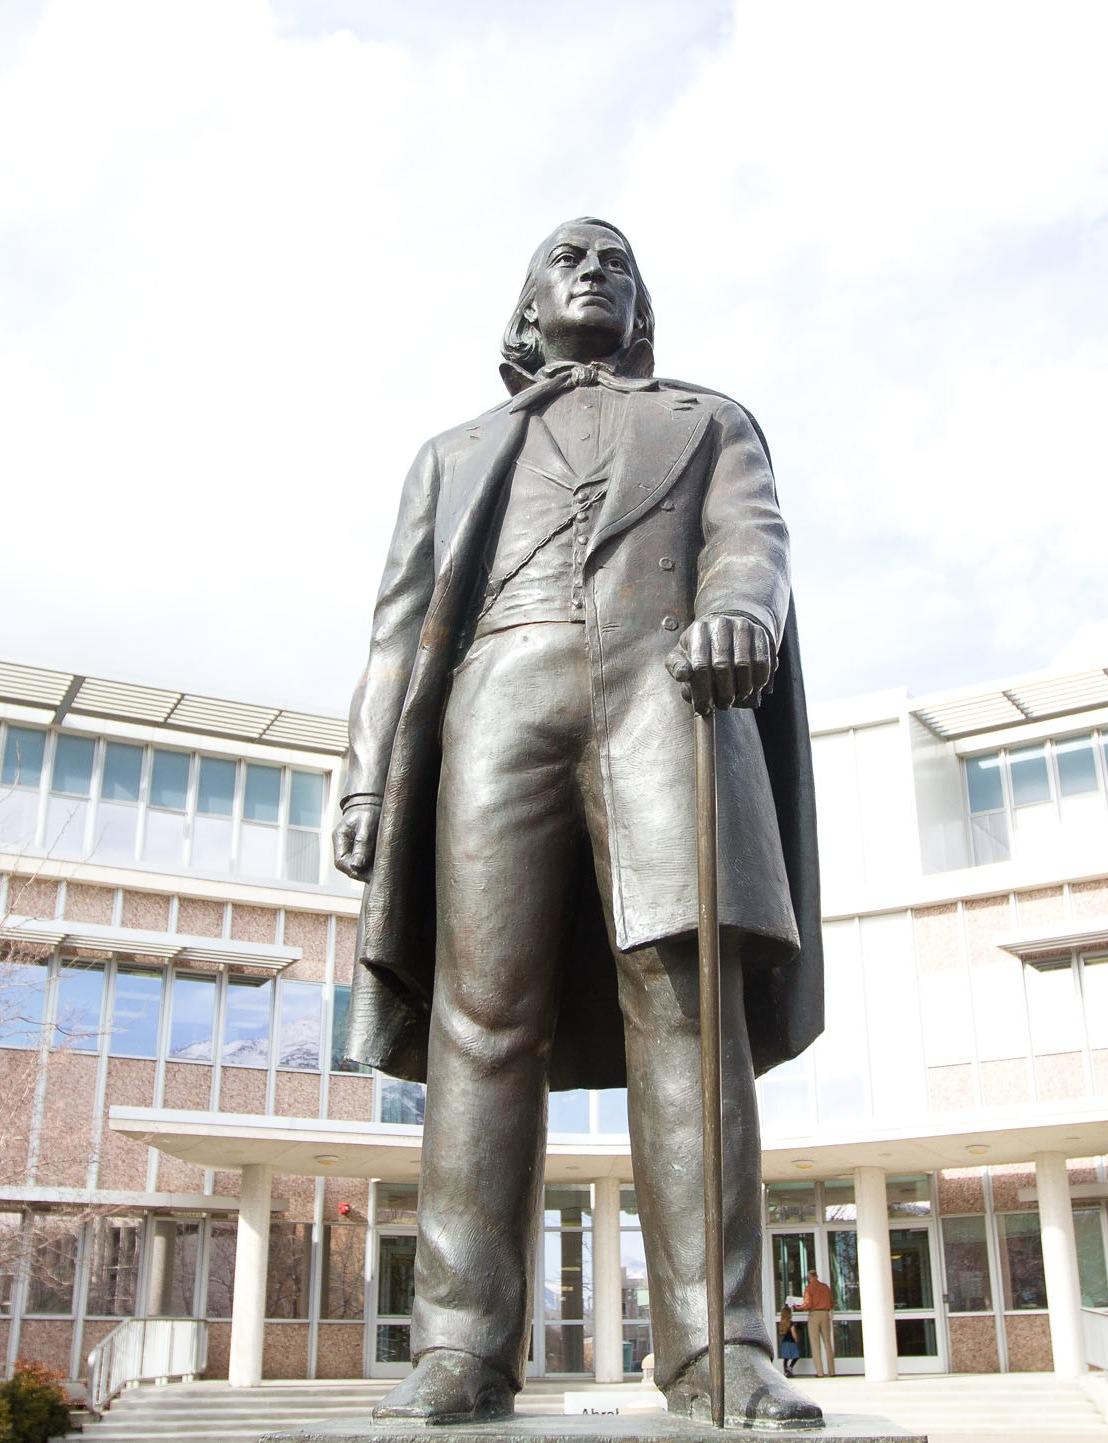person-like: (320, 190, 852, 1436)
